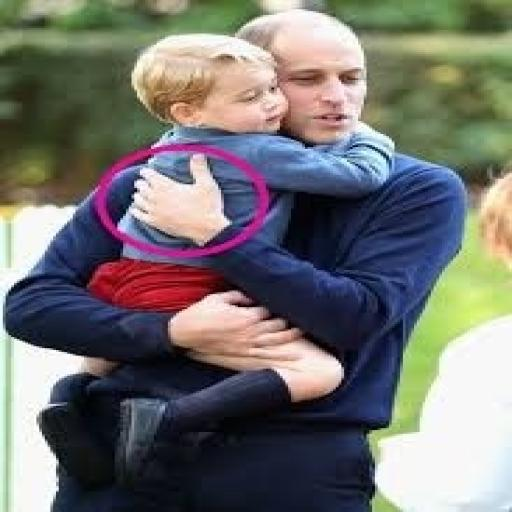hugging: (3, 8, 470, 510)
